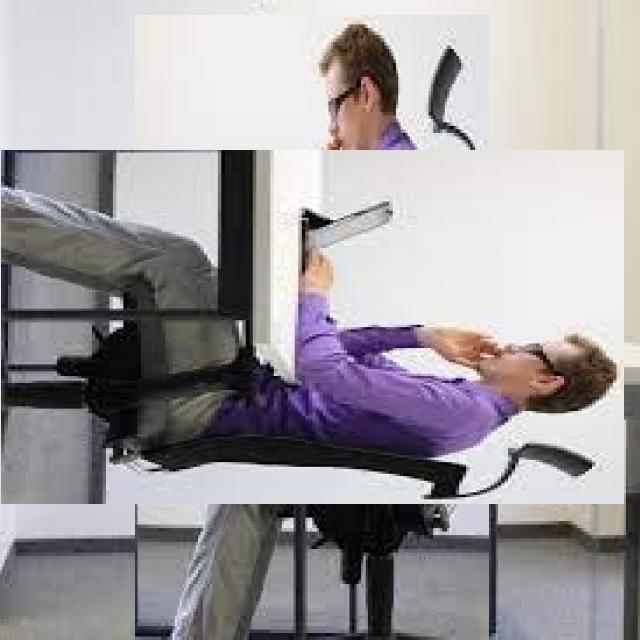NotFall: (35, 164, 588, 529)
